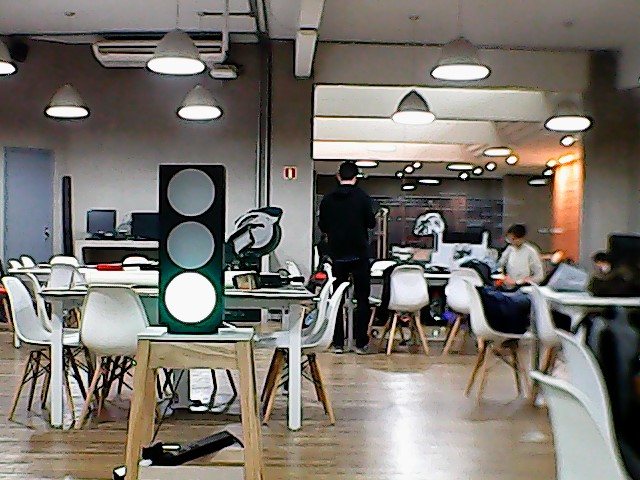verde: (155, 160, 229, 336)
